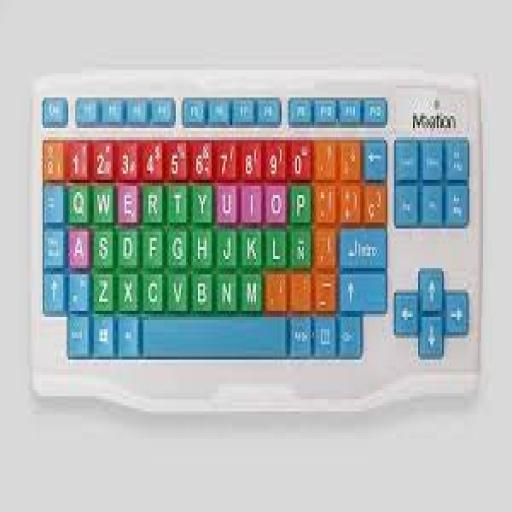keyboard: (29, 70, 481, 408)
